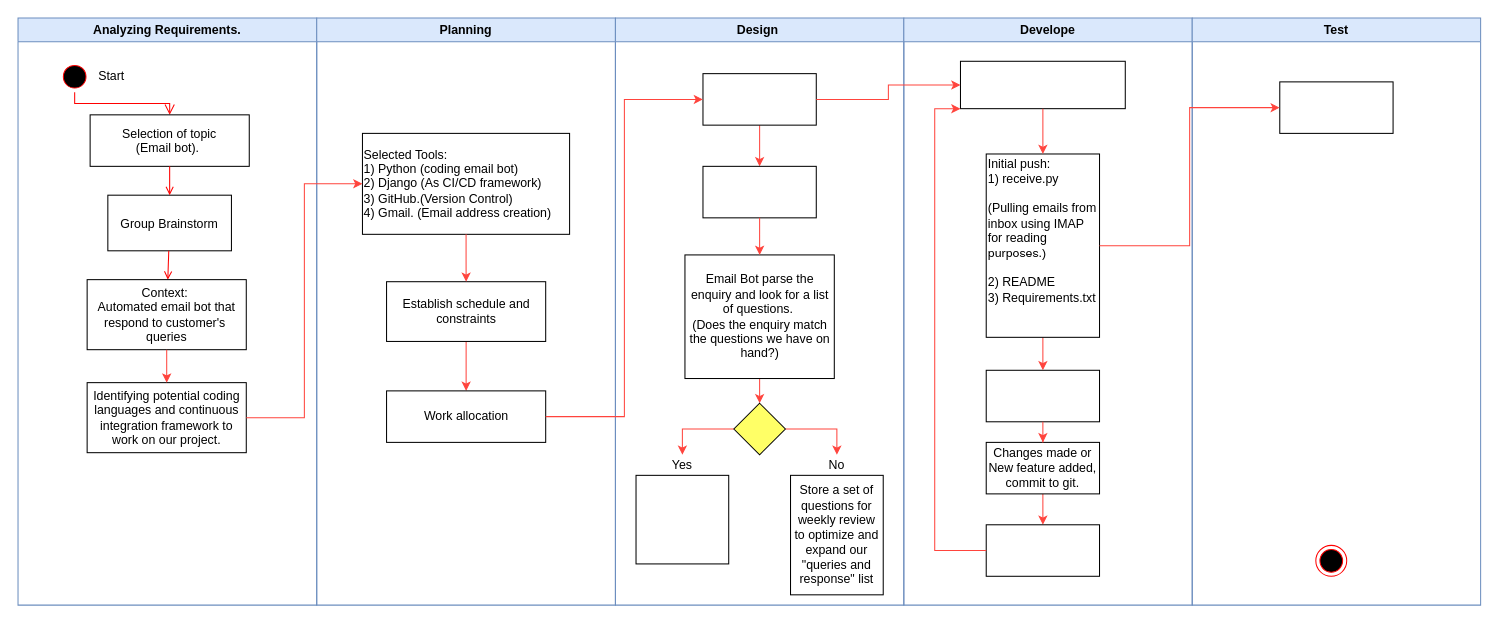
This 1499x623 diagram has some shape labels left out. The shapes that lost their labels are listed below. From the top down, each one's centre as x and y in pixels, then its label:
At (759,99): "Web Form Enquiry".
At (1042,84): "Git Hub Version Control".
At (1336,107): "Testing".
At (759,191): "Customer enquiry reaches our email".
At (1042,395): "Pull to our local environment.".
At (759,428): "Yes/No".
At (682,519): "Respond accordingly to the answers we have for them.".
At (1042,550): "Peer review & approval.".
